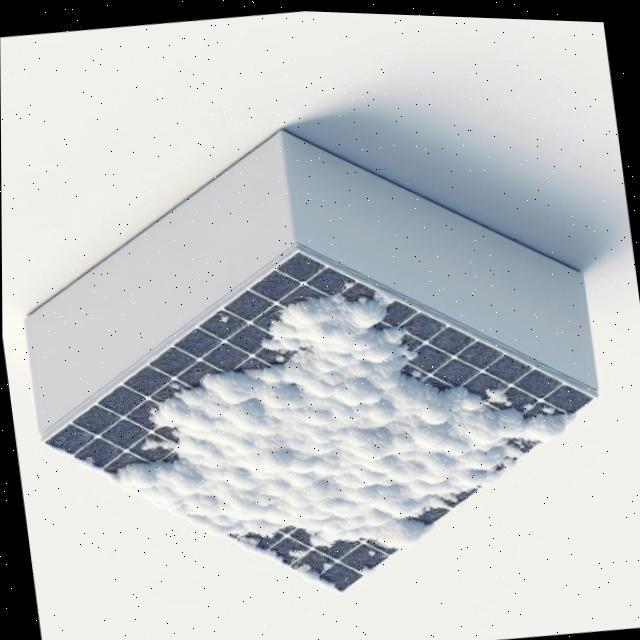Anomaly Solar Panel: (42, 160, 594, 640)
Snow: (39, 174, 575, 640), (234, 531, 285, 568), (293, 557, 336, 592), (284, 540, 307, 561)
